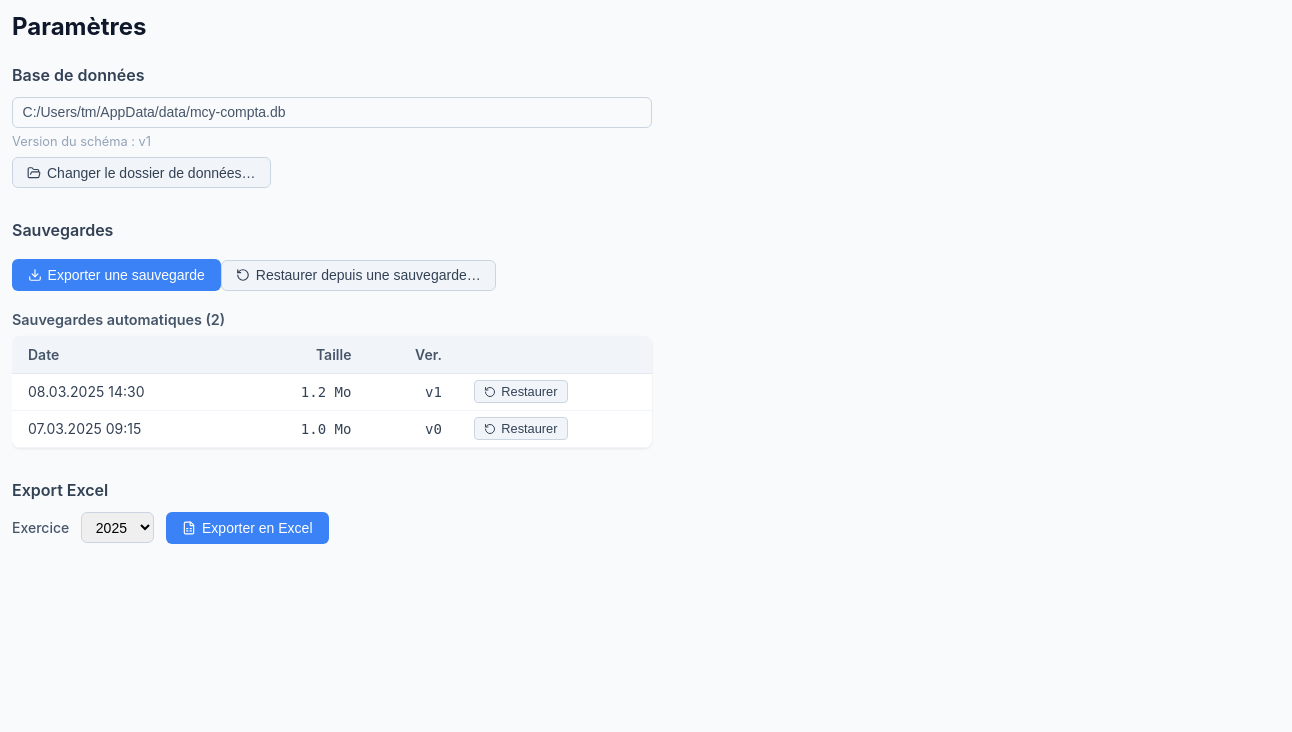
Test: SettingsPage — export › affiche un message de succès après export réussi
Click the button "Exporter une sauvegarde" at (116, 275), box [12,259,221,291]
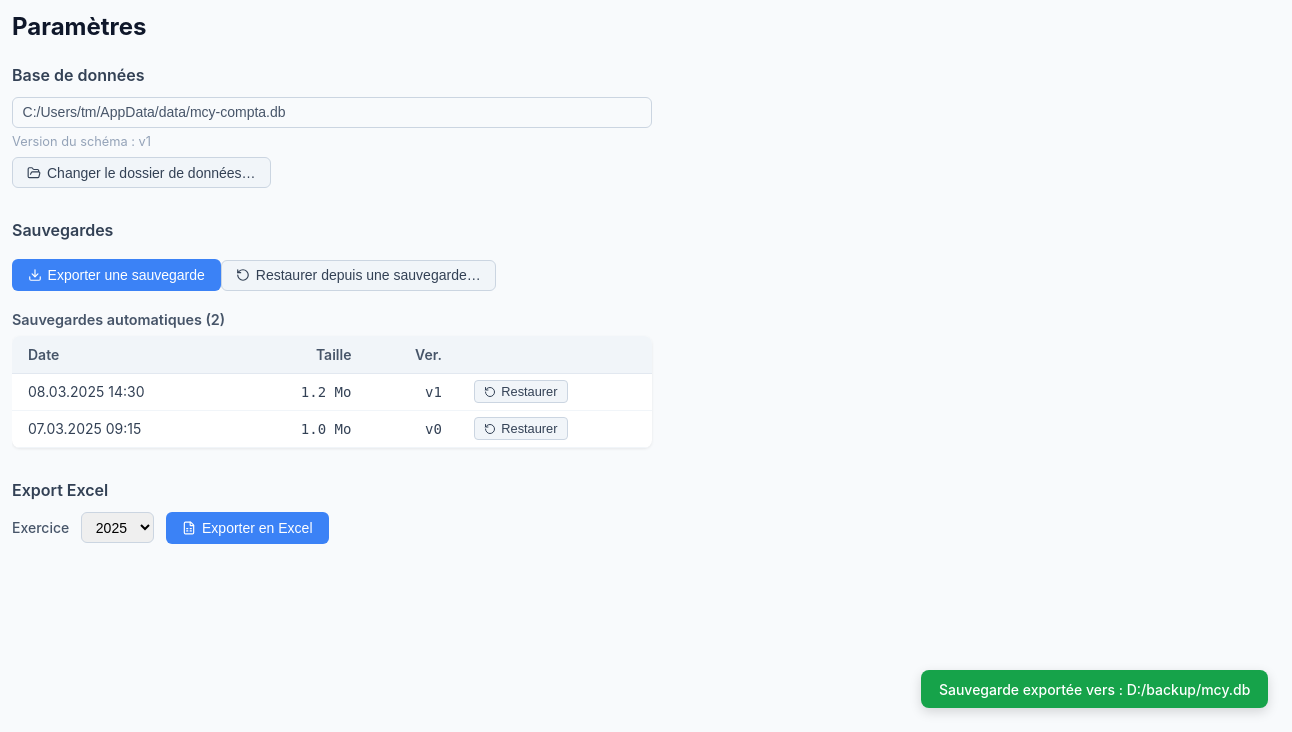
Expected: the text "Sauvegarde exportée vers : D:/backup/mcy.db" is shown, [921,670,1268,708]
